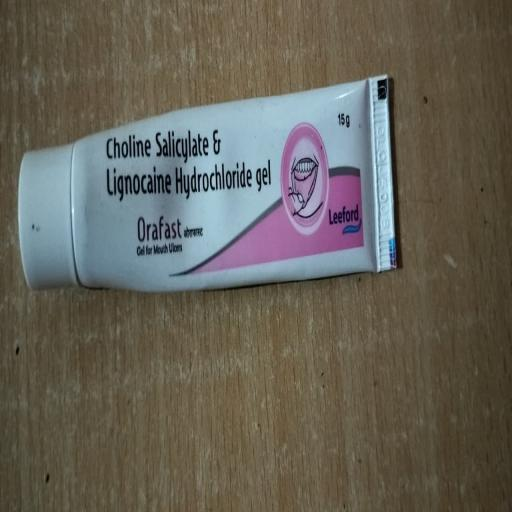orafast: (14, 70, 428, 319)
